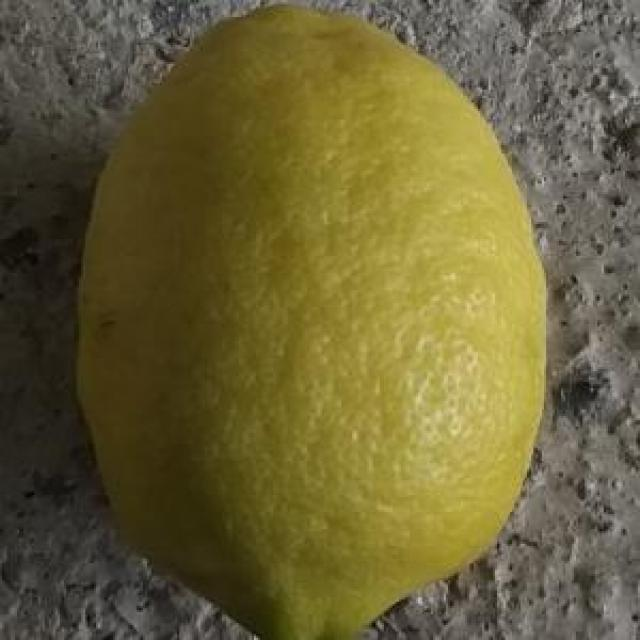lemon: (78, 3, 552, 640)
